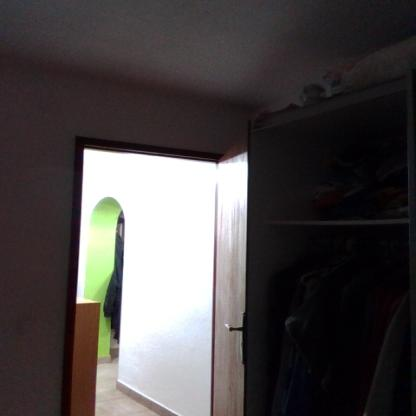open: (59, 131, 267, 413)
